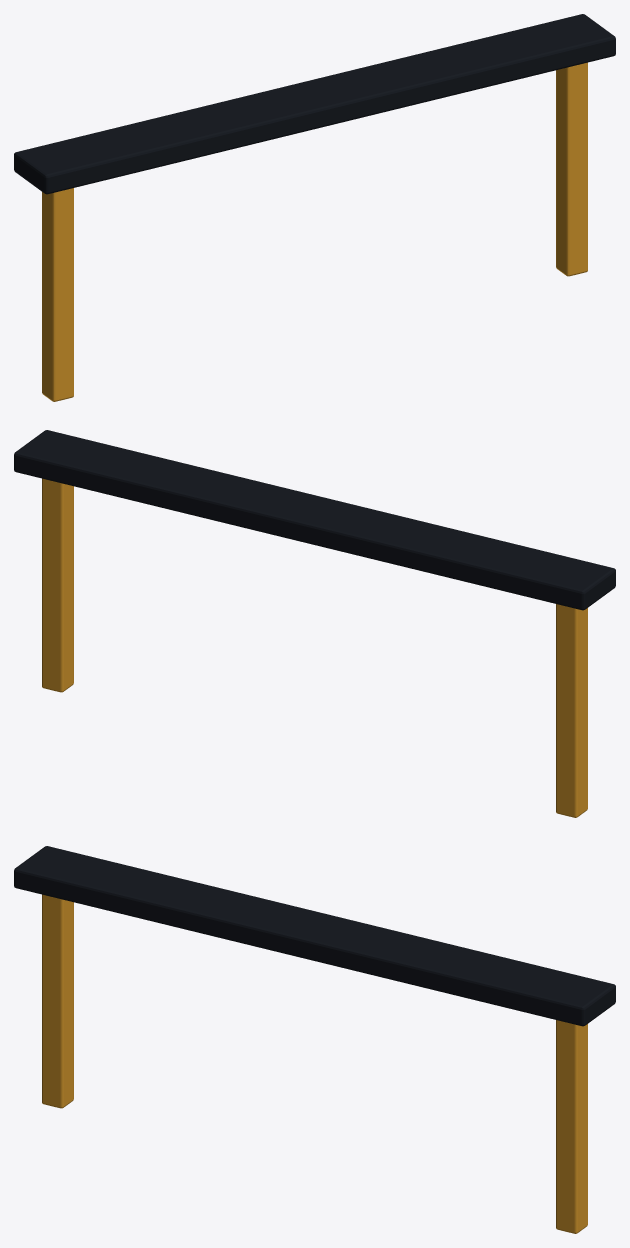
File: BridgeGantry.fbx
The picture shows the model from 3 angles, top to bottom: view 1: azimuth 30°, elevation 25°; view 2: azimuth 150°, elevation 25°; view 3: azimuth 330°, elevation 25°; orthographic projection.
Visible parts, largest first — view 1: Landmark_BridgeGantry; view 2: Landmark_BridgeGantry; view 3: Landmark_BridgeGantry.
Boxes of the visible parts, x1=… form: Landmark_BridgeGantry: x1=14, y1=14, x2=615, y2=401; Landmark_BridgeGantry: x1=14, y1=430, x2=615, y2=817; Landmark_BridgeGantry: x1=14, y1=846, x2=615, y2=1233.
Bounding box in the file's own units: 12 × 4.8 × 1.2.
